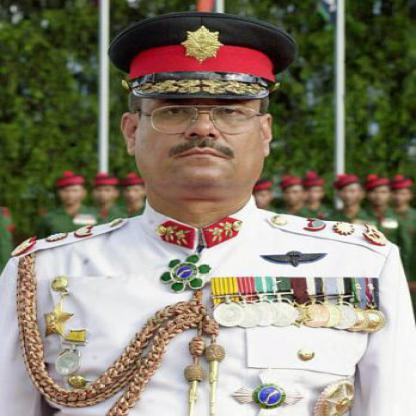face: (135, 46, 270, 203), (61, 181, 86, 206), (94, 180, 118, 205), (340, 182, 364, 206), (370, 183, 393, 208), (125, 182, 149, 205), (304, 183, 326, 205), (253, 187, 274, 209), (391, 185, 412, 206), (284, 183, 304, 205)
